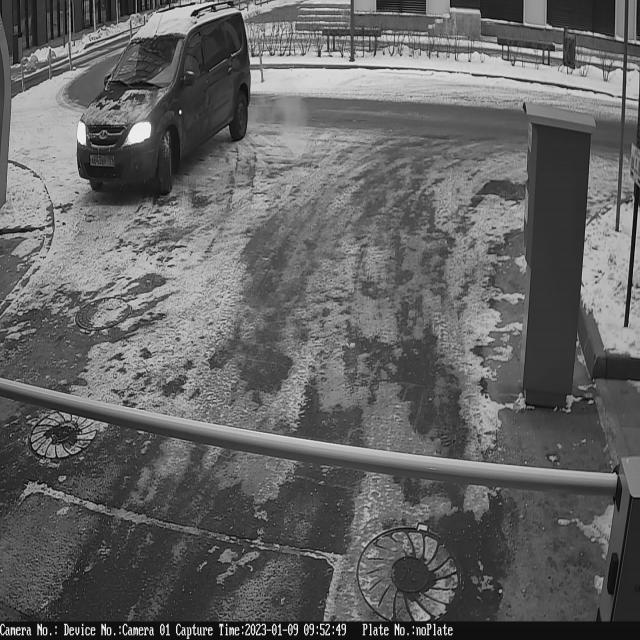car-plate-numbers: (88, 148, 119, 174)
